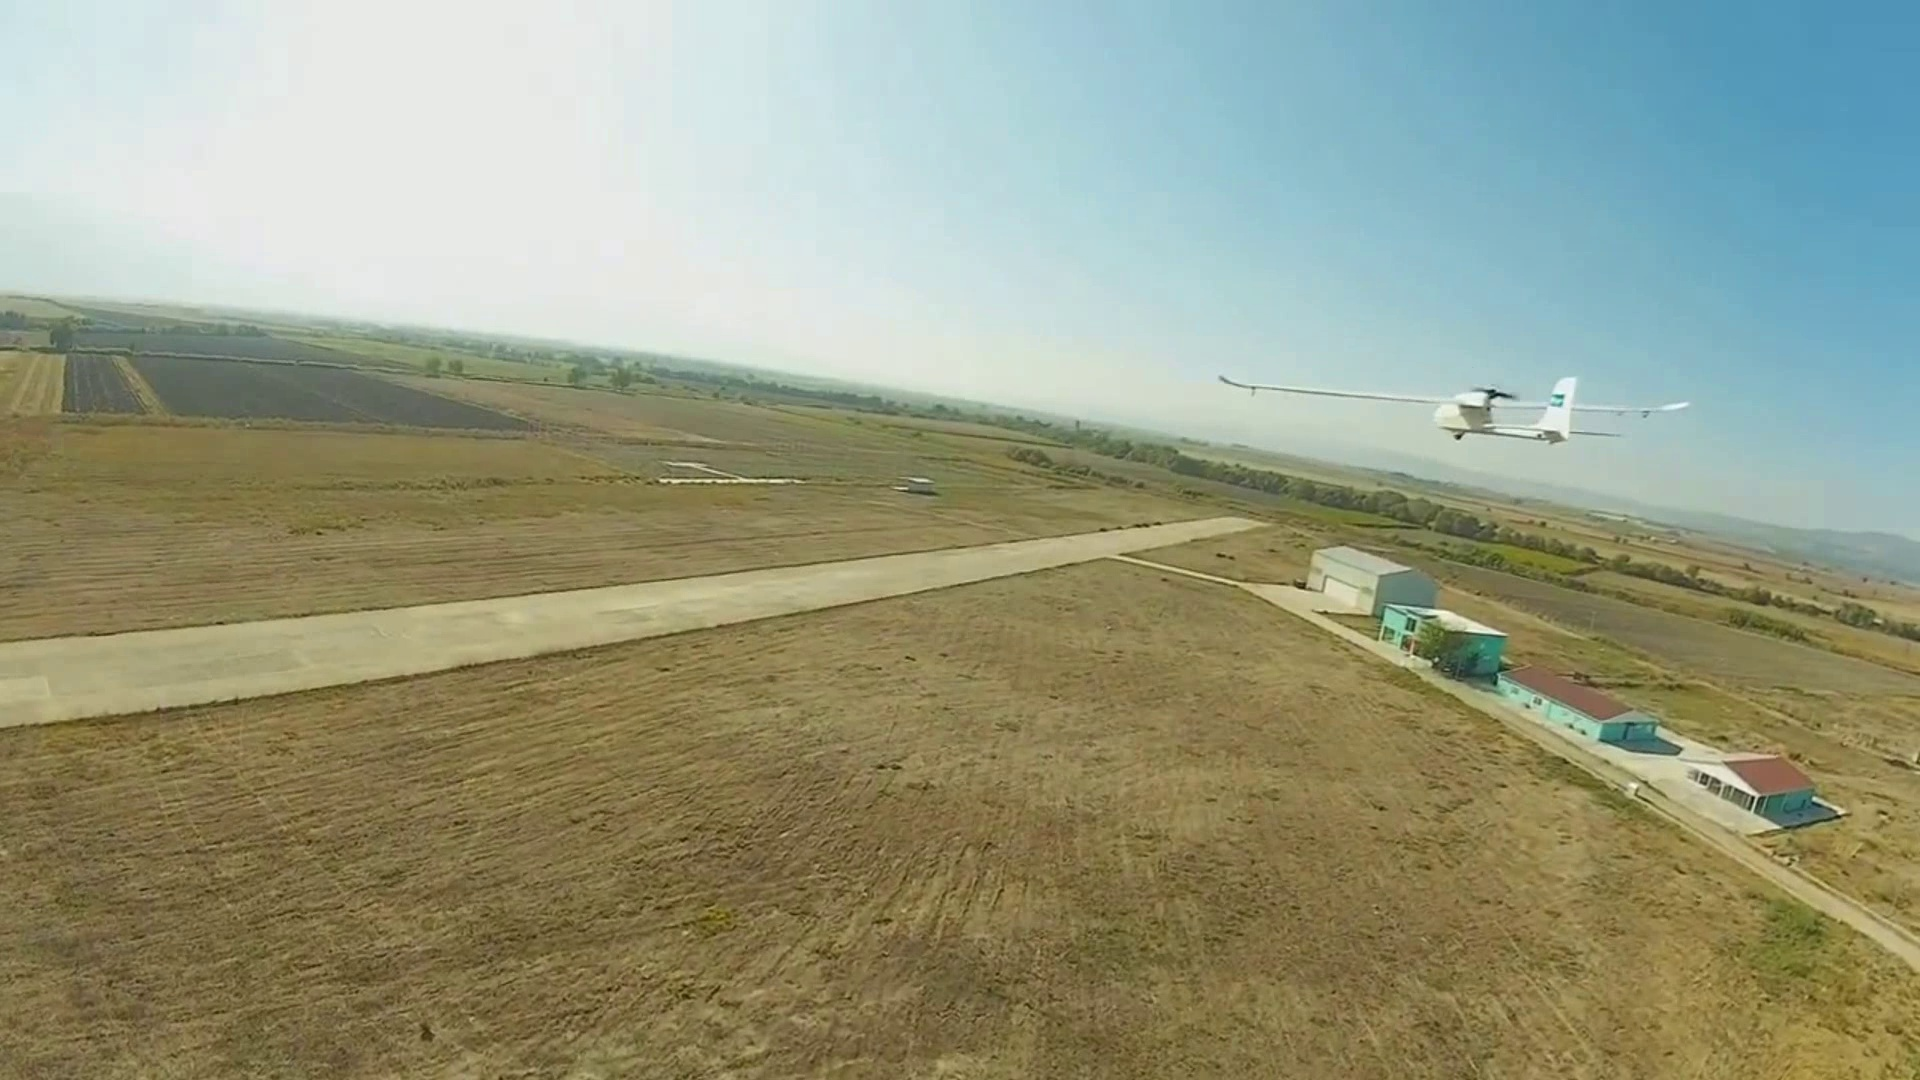airplane: (1214, 368, 1689, 447)
